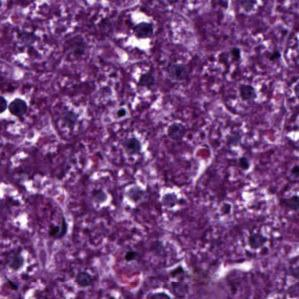inflammation: (123, 135, 145, 158), (10, 96, 29, 120)
